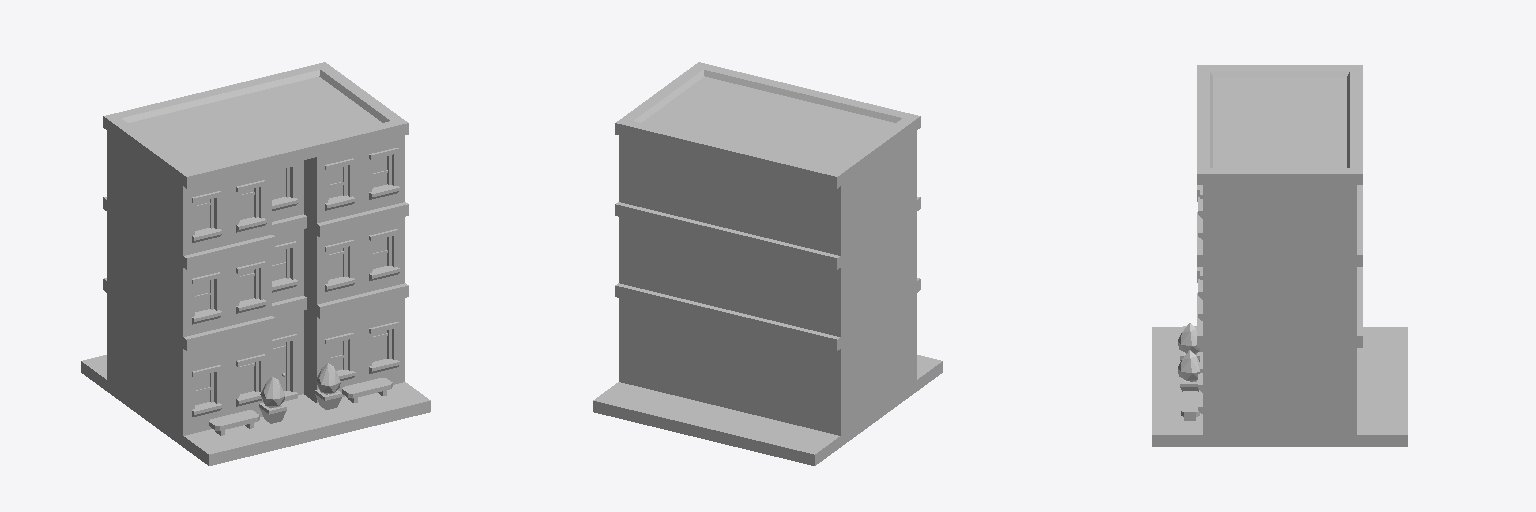
The model's file is building_F.obj.
3 renders of one model, left to right at view 1: azimuth 30°, elevation 25°; view 2: azimuth 150°, elevation 25°; view 3: azimuth 270°, elevation 25°, orthographic.
Parts seen in each view (by area): view 1: building_F_Cube.933; view 2: building_F_Cube.933; view 3: building_F_Cube.933.
Part boxes in pixels (x1,y1,x2,y2): building_F_Cube.933: (81, 62, 430, 465); building_F_Cube.933: (593, 62, 942, 465); building_F_Cube.933: (1152, 65, 1407, 446).
Bounding box in the file's own units: 2.01 × 2.35 × 2.